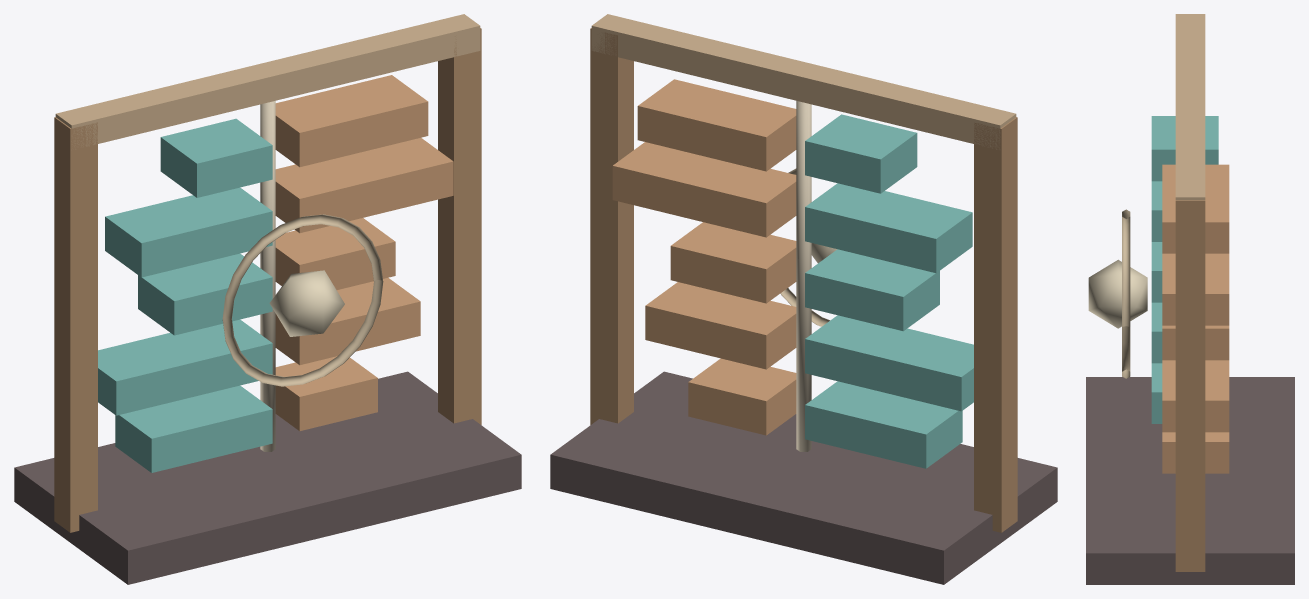
Rendered from ART-10.glb.
3 views of the same model, side by side, from view 1: azimuth 30°, elevation 25°; view 2: azimuth 150°, elevation 25°; view 3: azimuth 270°, elevation 25° (orthographic). The views are drawn at different scales.
Parts seen in each view (by area): view 1: world; view 2: world; view 3: world.
Boxes of the visible parts, box(x1,y1,x2,y2) form: world: box(14, 14, 521, 584); world: box(550, 14, 1057, 584); world: box(1086, 14, 1294, 584).
Bounding box in the file's own units: 2 × 1.98 × 0.9571.
